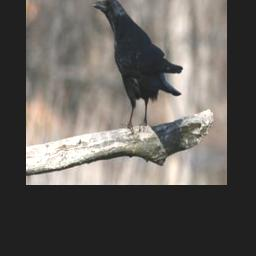Crow: (92, 0, 183, 137)
